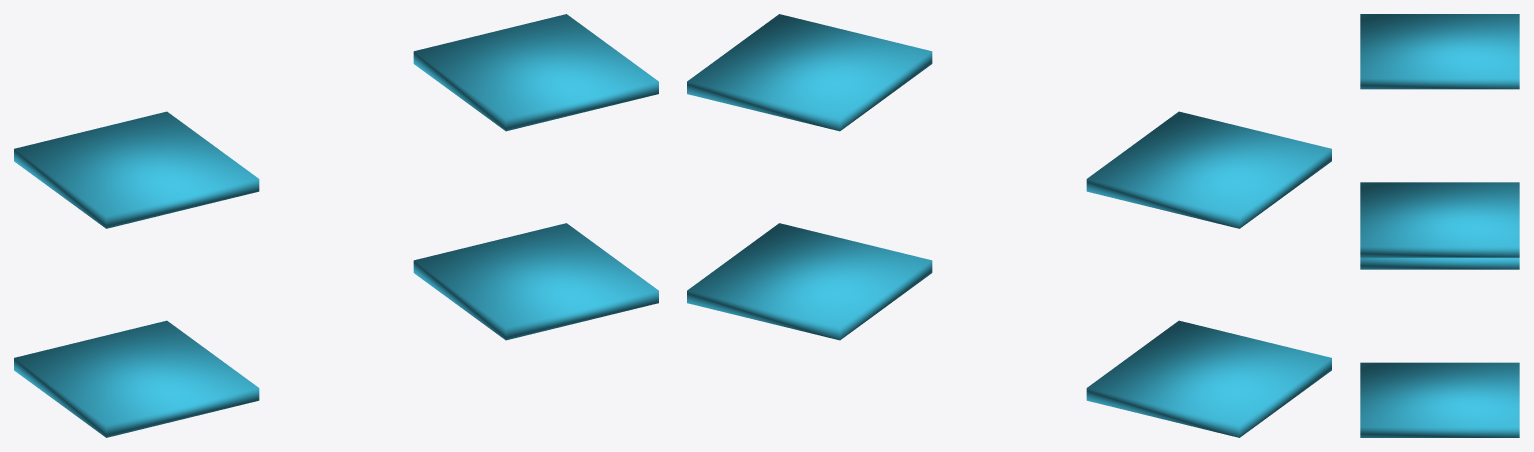
The model's file is machine2_glass.fbx.
3 views of the same model, side by side, from view 1: azimuth 30°, elevation 25°; view 2: azimuth 150°, elevation 25°; view 3: azimuth 270°, elevation 25° (orthographic). The views are drawn at different scales.
Parts seen in each view (by area): view 1: Plane_026; view 2: Plane_026; view 3: Plane_026.
Boxes of the visible parts, <box> form: Plane_026: <box>14,14,658,437</box>; Plane_026: <box>687,14,1331,437</box>; Plane_026: <box>1360,14,1519,437</box>.
Bounding box in the file's own units: 13.83 × 5.3 × 4.
Materials: 1 (1 with a texture image).
